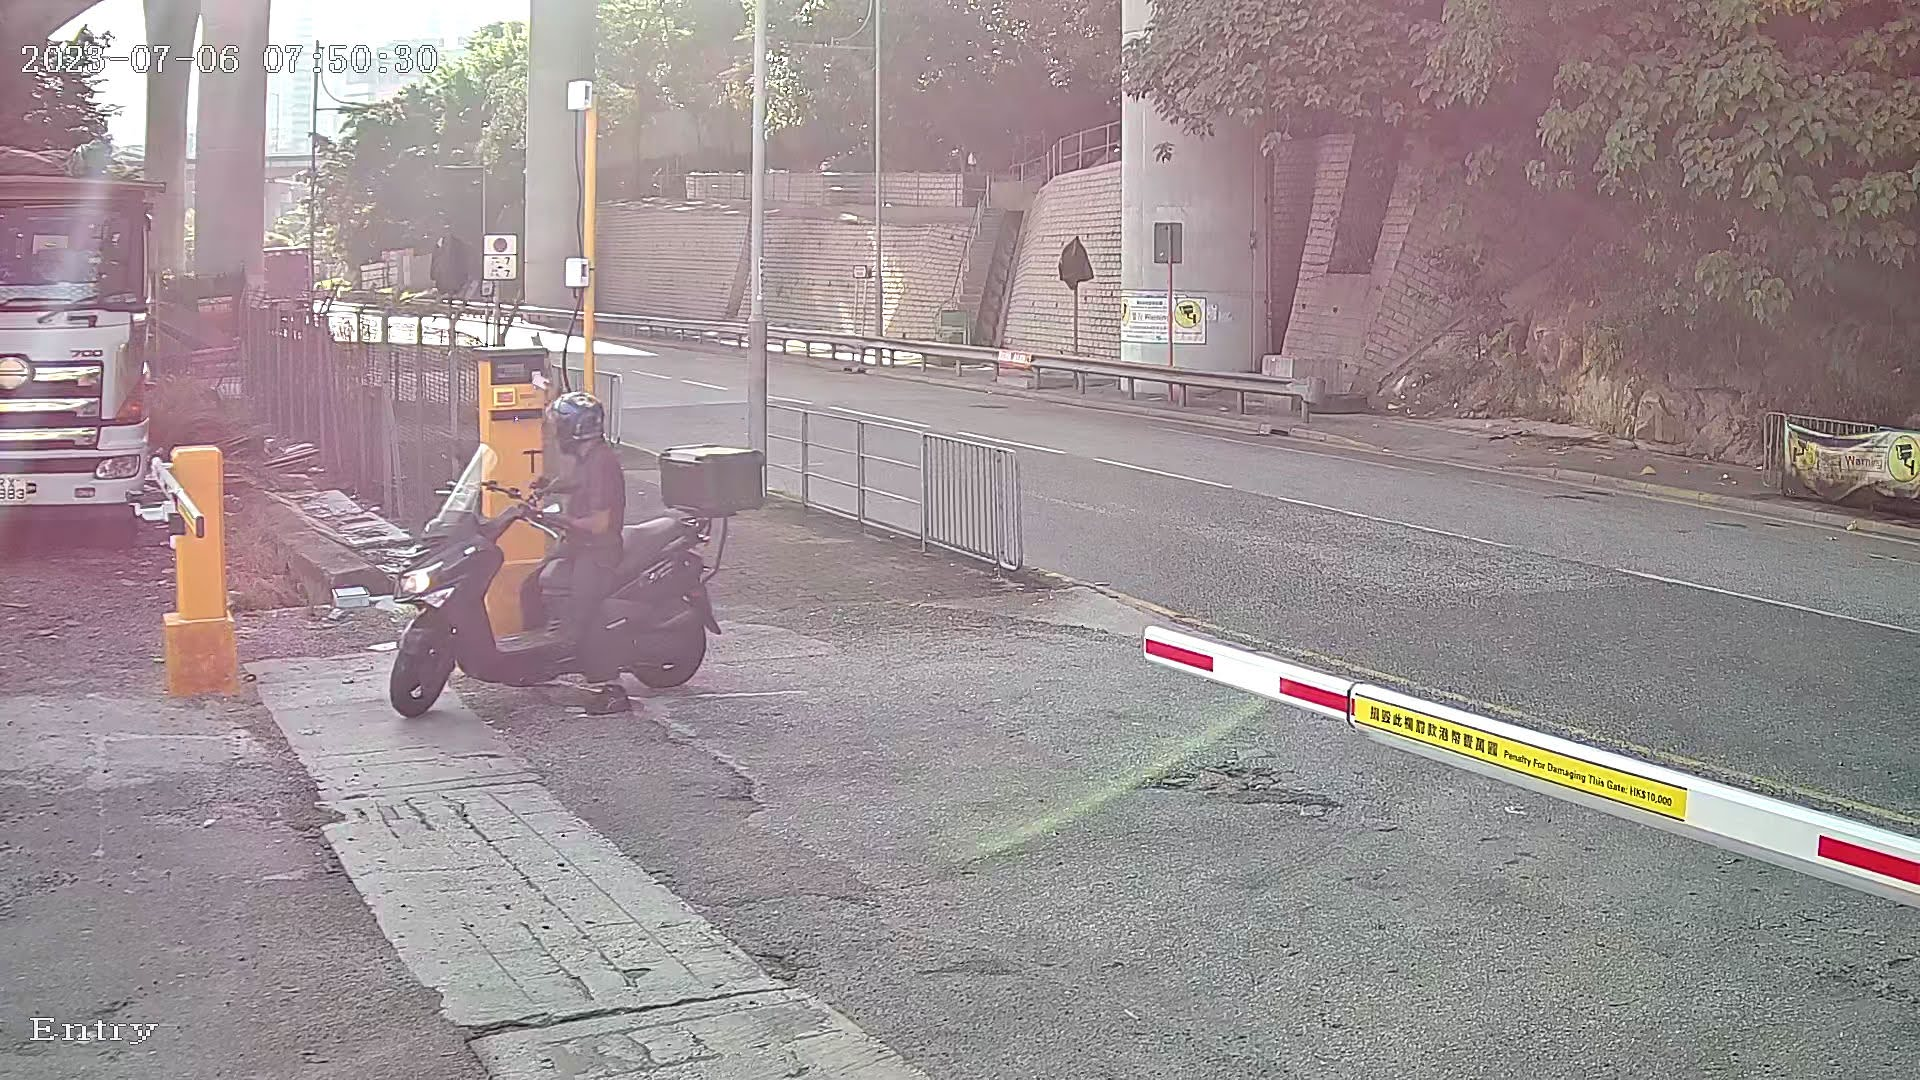motorcycle: (309, 342, 833, 771)
